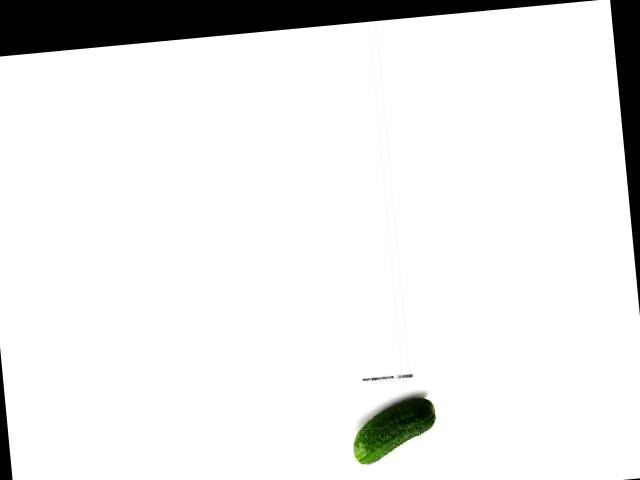cucumber: (349, 395, 439, 465)
